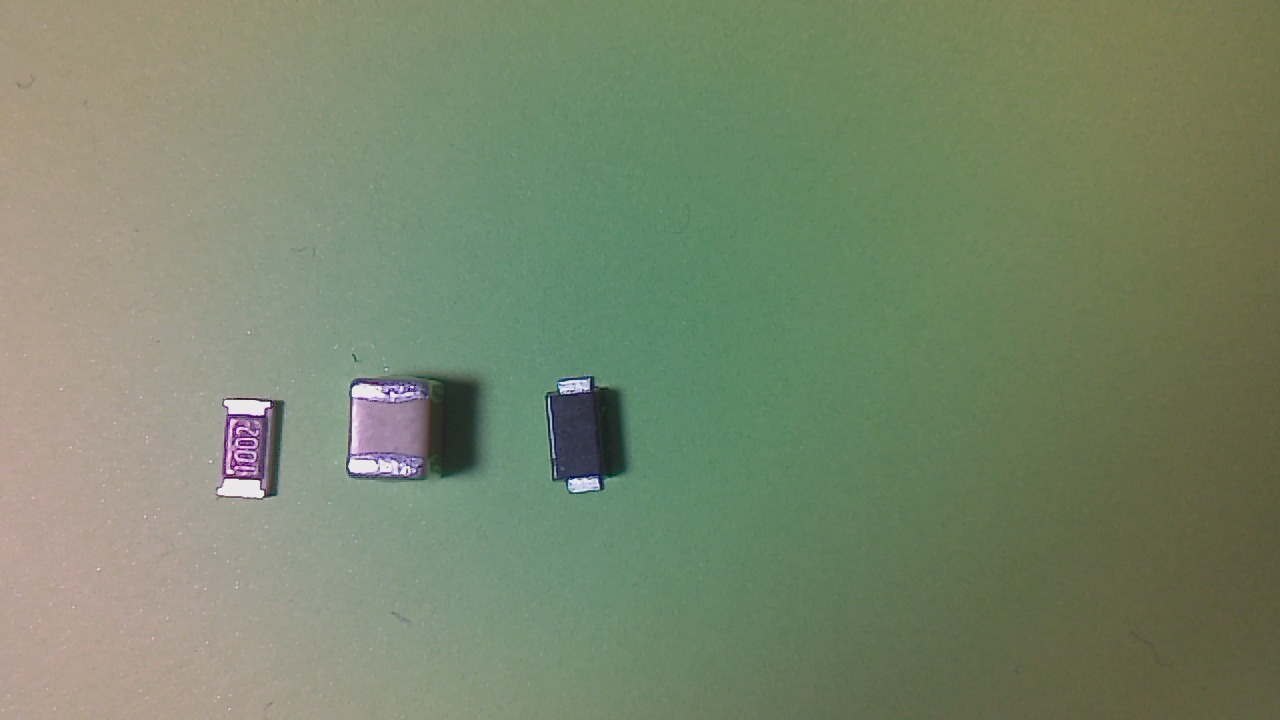Condensator: (349, 380, 439, 488)
Diode: (549, 382, 619, 501)
Resistor: (223, 402, 282, 503)
